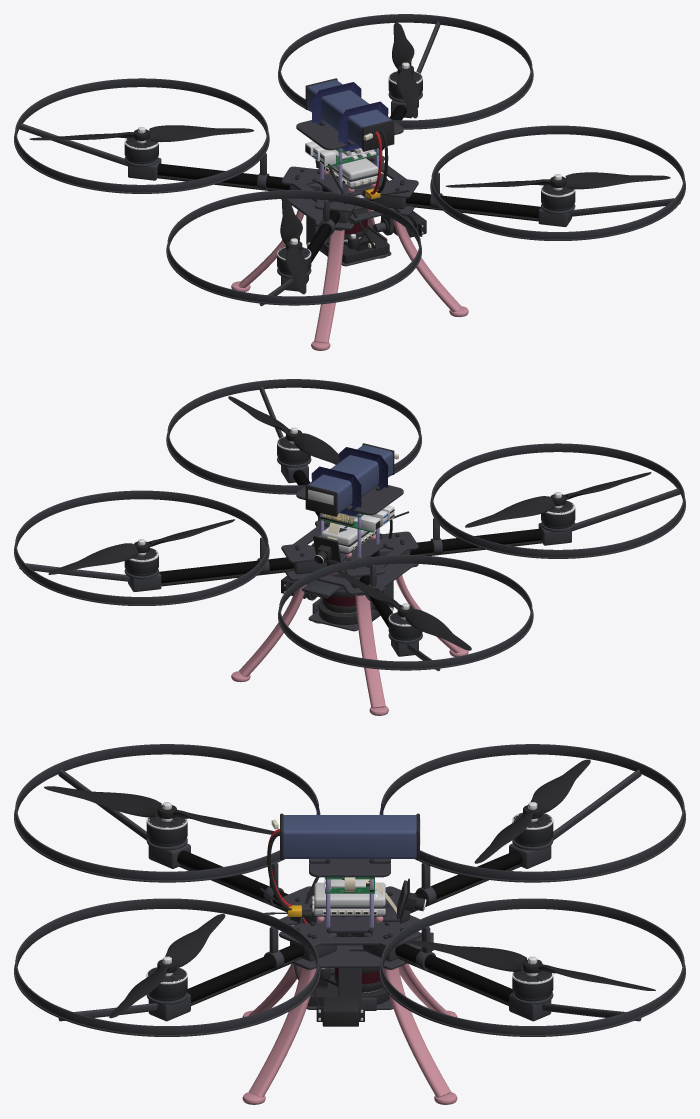
Rendered from drone.glb.
The picture shows the model from 3 angles, top to bottom: view 1: azimuth 30°, elevation 25°; view 2: azimuth 150°, elevation 25°; view 3: azimuth 270°, elevation 25°; orthographic projection. The views are drawn at different scales.
Parts seen in each view (by area): view 1: arms, guard1, guard3, guard2, battery, guard0, gear, tplate, prop3, prop1, prop0, prop2 (+8 smaller); view 2: arms, guard2, guard0, guard1, guard3, battery, gear, tplate, prop2, prop0, prop1, prop3 (+12 smaller); view 3: arms, guard0, guard3, guard1, guard2, battery, gear, tplate, prop0, prop2, prop3, prop1 (+11 smaller).
Part boxes in pixels (<box>): arms: <box>124,92,575,291</box>; guard1: <box>14,78,269,193</box>; guard3: <box>430,125,685,240</box>; guard2: <box>166,190,421,306</box>; battery: <box>305,78,394,199</box>; guard0: <box>278,14,533,129</box>; gear: <box>231,208,468,350</box>; tplate: <box>281,156,418,212</box>; prop3: <box>445,172,670,189</box>; prop1: <box>29,125,254,142</box>; prop0: <box>392,22,419,118</box>; prop2: <box>280,198,307,294</box>; arms: <box>124,457,575,656</box>; guard2: <box>430,443,685,558</box>; guard0: <box>14,490,269,605</box>; guard1: <box>278,555,533,671</box>; guard3: <box>166,379,421,520</box>; battery: <box>305,443,398,516</box>; gear: <box>231,572,468,715</box>; tplate: <box>281,520,418,577</box>; prop2: <box>465,472,651,527</box>; prop0: <box>48,519,234,574</box>; prop1: <box>340,572,471,650</box>; prop3: <box>228,396,338,464</box>; arms: <box>146,838,553,1021</box>; guard0: <box>379,898,685,1036</box>; guard3: <box>14,898,320,1036</box>; guard1: <box>379,744,685,906</box>; guard2: <box>14,744,320,906</box>; battery: <box>267,804,420,916</box>; gear: <box>242,963,457,1104</box>; tplate: <box>279,886,420,947</box>; prop0: <box>409,940,655,990</box>; prop2: <box>44,786,279,835</box>; prop3: <box>109,914,225,1018</box>; prop1: <box>474,759,590,863</box>.
Bounding box in the file's own units: 0.7541 × 0.3054 × 0.7541.
30 materials, 3 textured.
